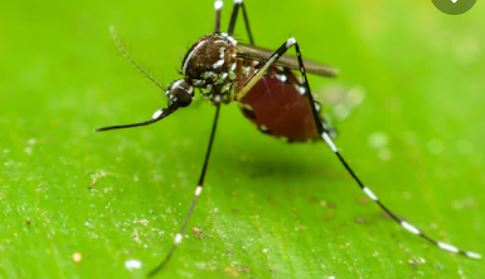dengue_mosquito: (110, 1, 384, 211)
